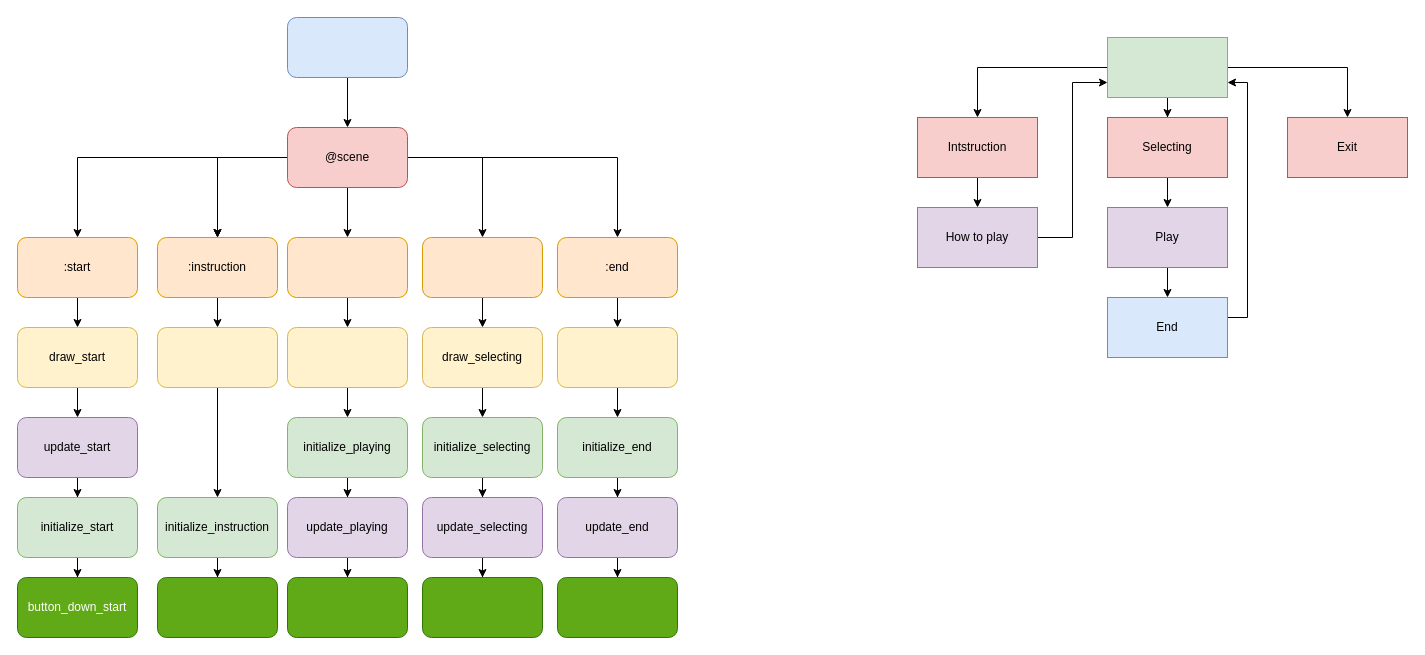
The diagram is 1425 pixels wide and 655 high, and some of its shapes have lost their labels. The centre of each missing label's shape, as x and y in pixels:
":playing" goes at point (347, 267).
":selecting" goes at point (482, 267).
"button_down_end" goes at point (617, 607).
"button_down_instruction" goes at point (217, 607).
"button_down_playing" goes at point (347, 607).
"button_down_selecting" goes at point (482, 607).
"draw_end" goes at point (617, 357).
"draw_instruction" goes at point (217, 357).
"draw_playing" goes at point (347, 357).
"Initialize" goes at point (347, 47).
"Menu" goes at point (1167, 67).
